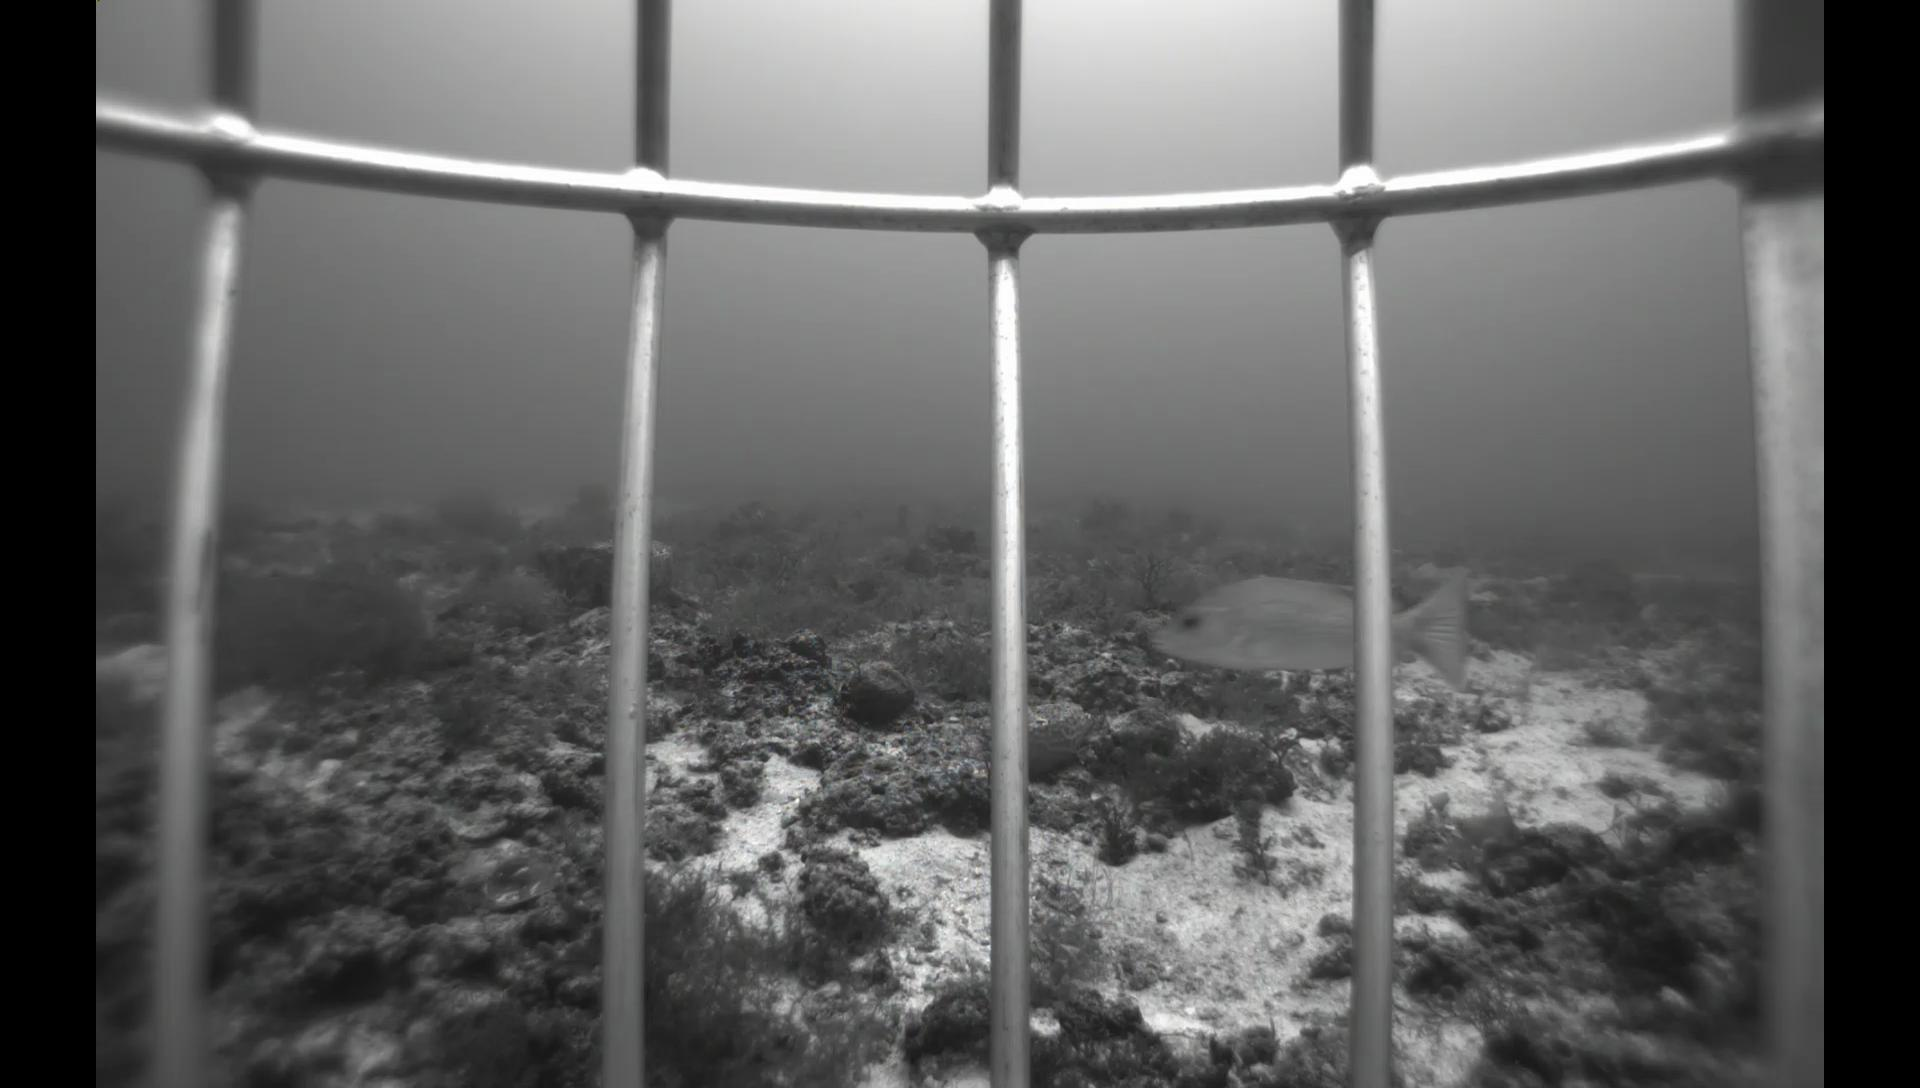LUTJANUSGRISEUS-170151109: (1145, 558, 1489, 703)
MYCTEROPERCAPHENAX-170022105: (886, 497, 923, 541)
